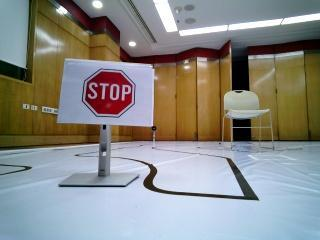stop: (68, 57, 150, 129)
